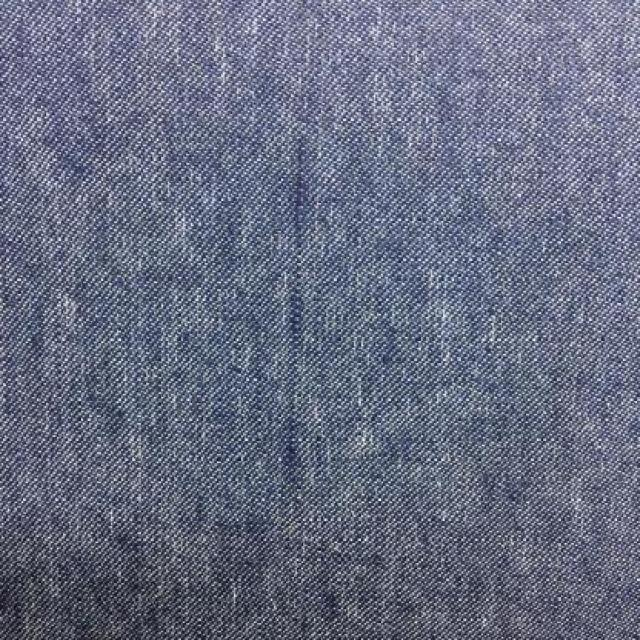pulled_or_thick_thread: (263, 117, 320, 487)
